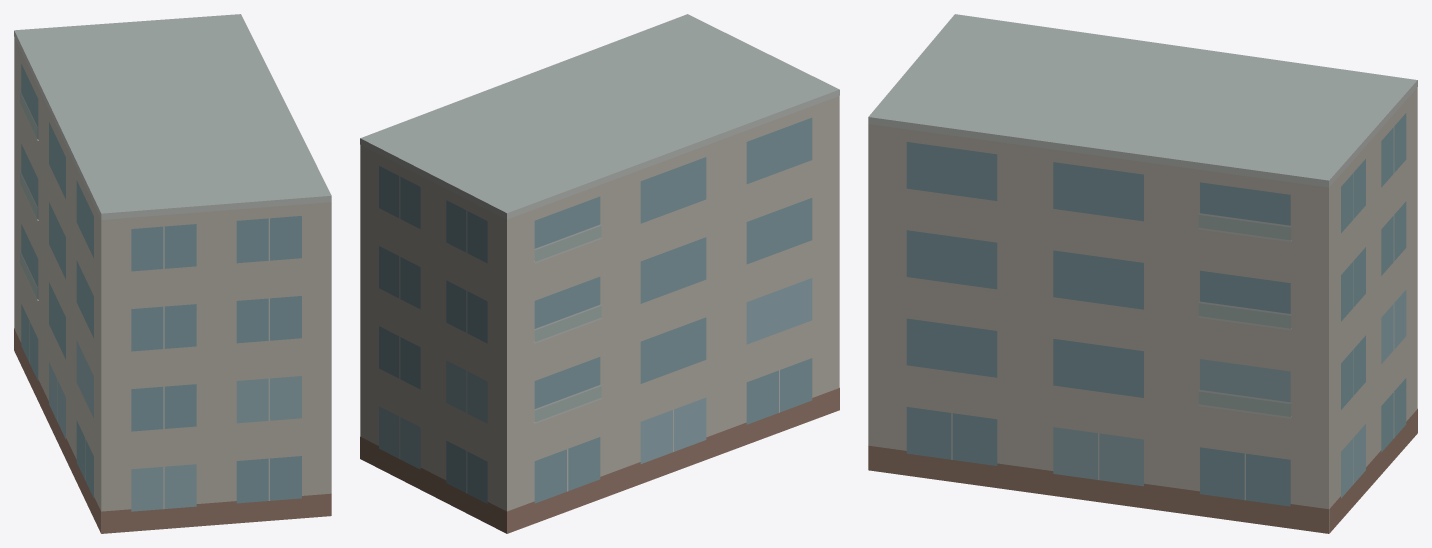
File: survey-upis-32890081.glb
The picture shows the model from 3 angles, left to right: view 1: azimuth 30°, elevation 25°; view 2: azimuth 150°, elevation 25°; view 3: azimuth 270°, elevation 25°; orthographic projection. The views are drawn at different scales.
Parts seen in each view (by area): view 1: survey-upis-32890081.tmp; view 2: survey-upis-32890081.tmp; view 3: survey-upis-32890081.tmp.
Part boxes in pixels (x1,y1,x2,y2): survey-upis-32890081.tmp: [14, 14, 331, 533]; survey-upis-32890081.tmp: [360, 14, 839, 533]; survey-upis-32890081.tmp: [868, 14, 1417, 533].
Size of the model in its own units: 12.55 by 12.4 by 17.49.
